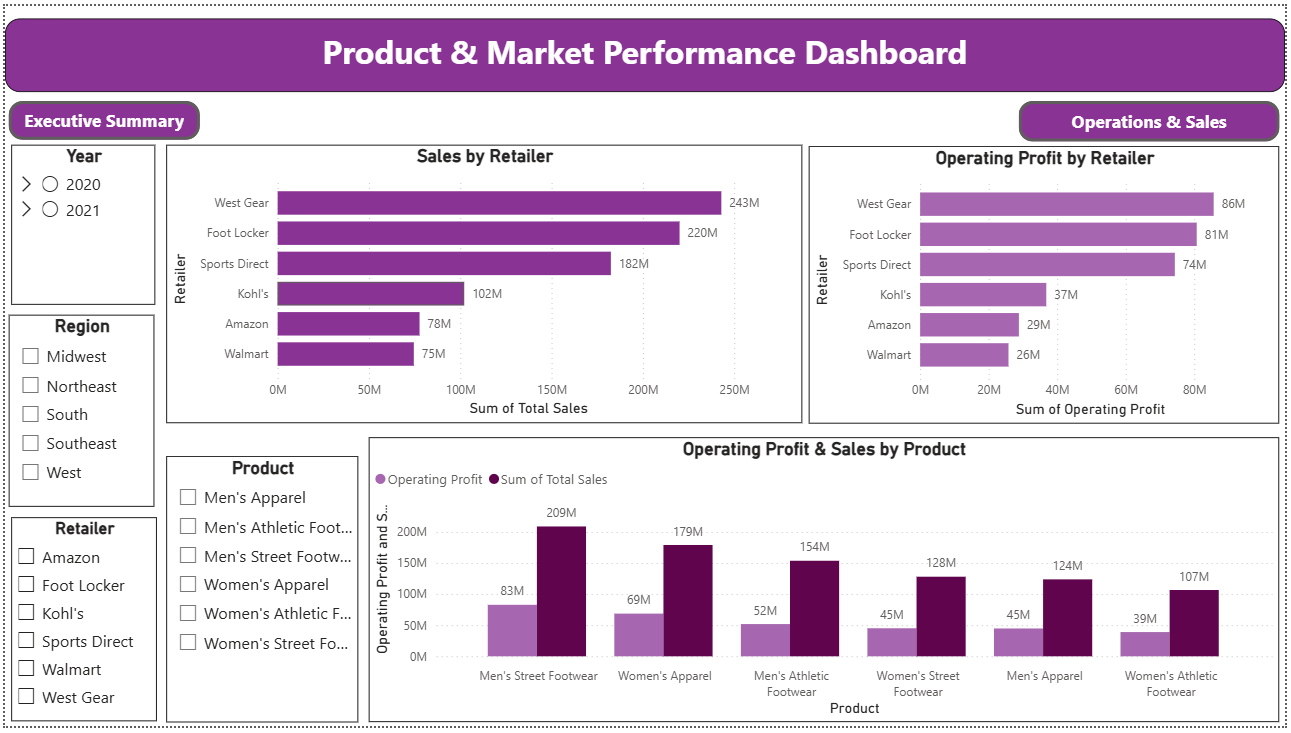

What the dashboard file says about the page in this screenshot:
{"tool":"powerbi","page":{"name":"Product & Market Performance","canvas":[1280,720],"ordinal":1},"visuals":[{"type":"textbox","box":[0,12.2,1280.3,73.4],"z":0},{"type":"clusteredColumnChart","title":"Operating Profit & Sales by Product","fields":{"Category":["Data Sales Adidas.Product"],"Y":["Sum(Data Sales Adidas.Operating Profit)","Sum(Data Sales Adidas.Total Sales)"]},"box":[364.3,430.7,910,285],"z":1000},{"type":"clusteredBarChart","title":" Sales by Retailer","fields":{"Category":["Data Sales Adidas.Retailer"],"Y":["Sum(Data Sales Adidas.Total Sales)"]},"box":[161.6,138.3,636.1,278],"z":2000},{"type":"slicer","title":"Region","fields":{"Values":["Data Sales Adidas.Region"]},"box":[4.4,308.6,145.6,192.1],"z":3000},{"type":"actionButton","box":[1013.6,95.5,260.7,40.5],"z":4000},{"type":"actionButton","box":[3.2,95.5,191.1,38.9],"z":5000},{"type":"listSlicer","fields":{"Values":["Data Sales Adidas.Retailer"]},"box":[6.1,511.1,145.5,204.2],"z":6000},{"type":"barChart","title":" Operating Profit by Retailer","fields":{"Category":["Data Sales Adidas.Retailer"],"Y":["Sum(Data Sales Adidas.Operating Profit)"]},"box":[803.4,139.4,470.8,277.6],"z":7000},{"type":"slicer","title":"Product","fields":{"Values":["Data Sales Adidas.Product"]},"box":[161.6,449.8,192.1,266.4],"z":8000},{"type":"listSlicer","fields":{"Values":["Data Sales Adidas.Date.Variation.Date Hierarchy.Year","Data Sales Adidas.Date.Variation.Date Hierarchy.Quarter","Data Sales Adidas.Date.Variation.Date Hierarchy.Month","Data Sales Adidas.Date.Variation.Date Hierarchy.Day"]},"box":[5.8,138.3,144.1,160.1],"z":10000}]}

Visuals, with their boxes in screenshot pixels (x1, y1, x2, y2), scaled from the page's 1280x720 canvas onto the 1291x733 screenshot:
textbox: <box>0,12,1290,87</box>
"Operating Profit & Sales by Product" clusteredColumnChart: <box>367,438,1285,729</box>
" Sales by Retailer" clusteredBarChart: <box>163,141,805,424</box>
"Region" slicer: <box>4,314,151,510</box>
actionButton: <box>1022,97,1285,138</box>
actionButton: <box>3,97,196,137</box>
listSlicer - Data Sales Adidas.Retailer: <box>6,520,153,728</box>
" Operating Profit by Retailer" barChart: <box>810,142,1285,425</box>
"Product" slicer: <box>163,458,357,729</box>
listSlicer - Data Sales Adidas.Date.Variation.Date Hierarchy.Year x Data Sales Adidas.Date.Variation.Date Hierarchy.Quarter: <box>6,141,151,304</box>
